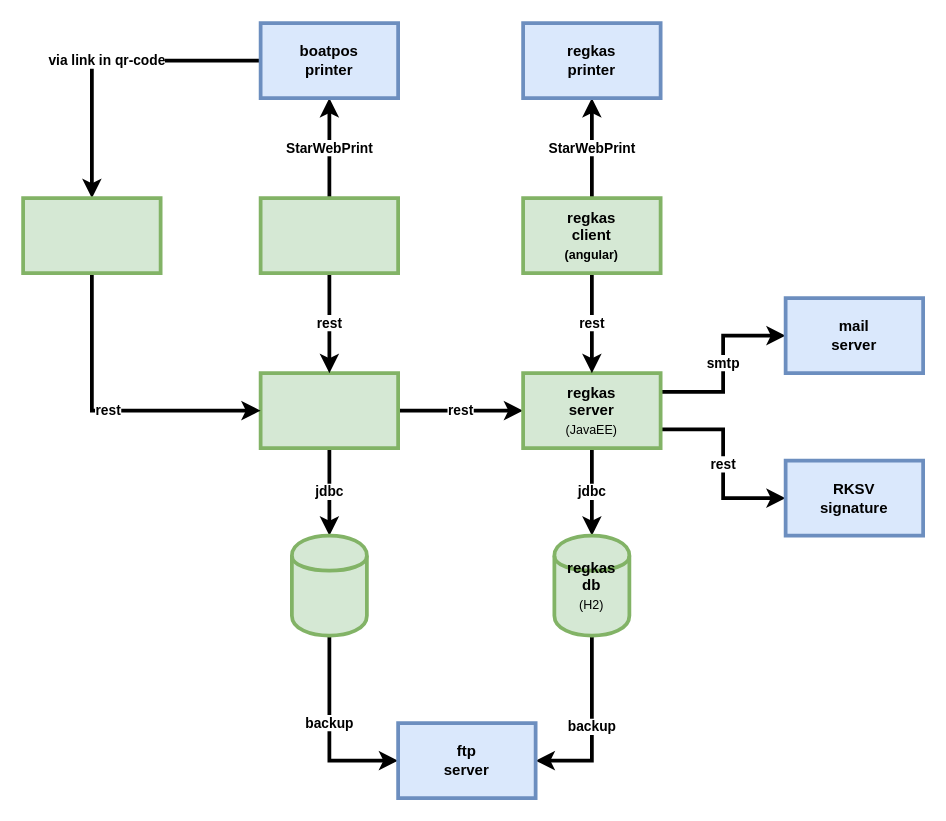
Image size: 946x821. Some labels were removed from this diagram. Here are the shapes that lost their labels. From the top down, the centre of each, then its label:
At [91,235]: "myrental client (PHP)".
At [328,235]: "boatpos client (angular)".
At [328,410]: "boatpos server (JavaEE)".
At [328,585]: "boatpos db (H2)".
